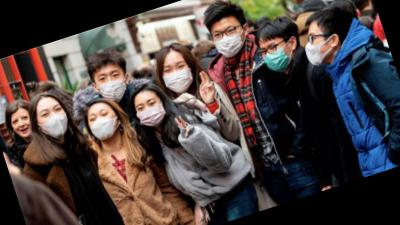with_mask: (210, 19, 251, 62), (93, 65, 133, 106), (258, 37, 297, 76), (298, 27, 334, 69), (34, 101, 71, 141), (159, 57, 196, 97), (132, 93, 170, 131), (86, 104, 123, 142)
without_mask: (9, 111, 37, 140)
